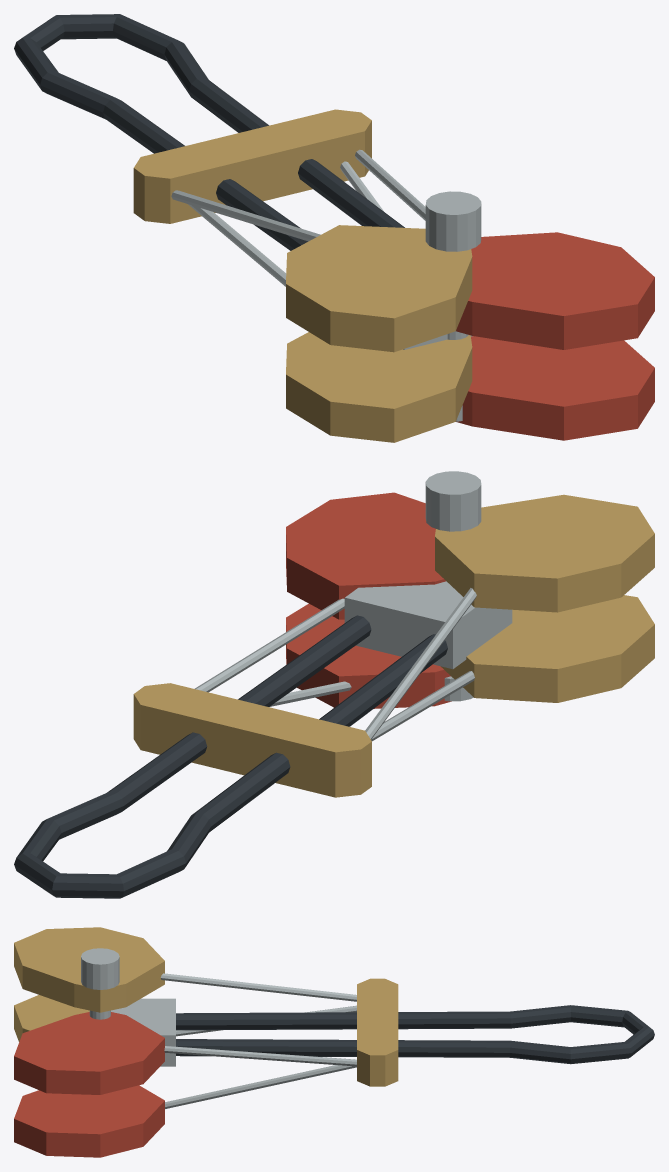
3 renders of one model, top to bottom at view 1: azimuth 30°, elevation 25°; view 2: azimuth 150°, elevation 25°; view 3: azimuth 270°, elevation 25°, orthographic. The views are drawn at different scales.
Parts seen in each view (by area): view 1: WholeEccentricLobe3, WholeEccentricLobe2, WholeEccentricLobe0, WholeEccentricLobe1, WholeContinuousTwinStrandAttachmentLoop, WholeTriggerCrossbar, WholeUpperAxleRetainer, WholeFixedLobeTriggerLink3, WholeFixedLobeTriggerLink1, WholeFixedLobeTriggerLink2; view 2: WholeEccentricLobe3, WholeContinuousTwinStrandAttachmentLoop, WholeTriggerCrossbar, WholeEccentricLobe1, WholeEccentricLobe2, WholeCentralNeck, WholeEccentricLobe0, WholeUpperAxleRetainer, WholeFixedLobeTriggerLink3, WholeFixedLobeTriggerLink2, WholeFixedLobeTriggerLink1, WholeFixedLobeTriggerLink0; view 3: WholeContinuousTwinStrandAttachmentLoop, WholeEccentricLobe2, WholeEccentricLobe0, WholeEccentricLobe3, WholeTriggerCrossbar, WholeCentralNeck, WholeEccentricLobe1, WholeUpperAxleRetainer, WholeFixedLobeTriggerLink3, WholeFixedLobeTriggerLink2, WholeFixedLobeTriggerLink0, WholeFixedLobeTriggerLink1.
Boxes of the visible parts, box(x1,y1,x2,y2) form: WholeEccentricLobe3: box(286, 225, 472, 352); WholeEccentricLobe2: box(456, 232, 654, 349); WholeEccentricLobe0: box(456, 336, 654, 440); WholeEccentricLobe1: box(286, 332, 472, 442); WholeContinuousTwinStrandAttachmentLoop: box(14, 14, 404, 250); WholeTriggerCrossbar: box(133, 109, 371, 223); WholeUpperAxleRetainer: box(425, 191, 481, 251); WholeFixedLobeTriggerLink3: box(171, 190, 320, 241); WholeFixedLobeTriggerLink1: box(188, 204, 286, 286); WholeFixedLobeTriggerLink2: box(355, 149, 425, 220); WholeEccentricLobe3: box(435, 494, 654, 612); WholeContinuousTwinStrandAttachmentLoop: box(14, 615, 447, 898); WholeTriggerCrossbar: box(133, 683, 371, 797); WholeEccentricLobe1: box(441, 595, 654, 702); WholeEccentricLobe2: box(286, 492, 445, 619); WholeCentralNeck: box(344, 581, 512, 669); WholeEccentricLobe0: box(286, 603, 451, 708); WholeUpperAxleRetainer: box(425, 471, 481, 531); WholeFixedLobeTriggerLink3: box(365, 588, 476, 739); WholeFixedLobeTriggerLink2: box(194, 598, 344, 692); WholeFixedLobeTriggerLink1: box(371, 671, 474, 741); WholeFixedLobeTriggerLink0: box(270, 681, 351, 706); WholeContinuousTwinStrandAttachmentLoop: box(176, 1005, 654, 1064); WholeEccentricLobe2: box(14, 1012, 164, 1094); WholeEccentricLobe0: box(14, 1085, 164, 1157); WholeEccentricLobe3: box(14, 927, 164, 1012); WholeTriggerCrossbar: box(357, 978, 398, 1086); WholeCentralNeck: box(111, 998, 175, 1066); WholeEccentricLobe1: box(14, 995, 89, 1041); WholeUpperAxleRetainer: box(81, 948, 119, 989); WholeFixedLobeTriggerLink3: box(160, 973, 356, 1001); WholeFixedLobeTriggerLink2: box(164, 1046, 356, 1066); WholeFixedLobeTriggerLink0: box(165, 1065, 356, 1108); WholeFixedLobeTriggerLink1: box(176, 1005, 356, 1036).
Size of the model in its own units: 0.124 by 0.074 by 0.297.
